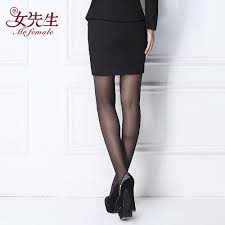F_tailored skirt: (81, 11, 151, 79)
